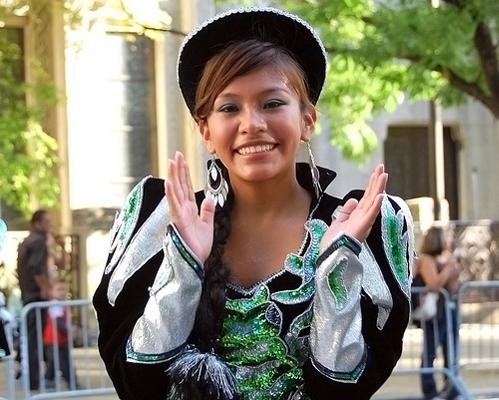person: (92, 9, 416, 400)
